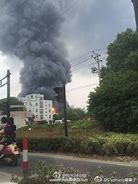smoke: (1, 1, 72, 95)
